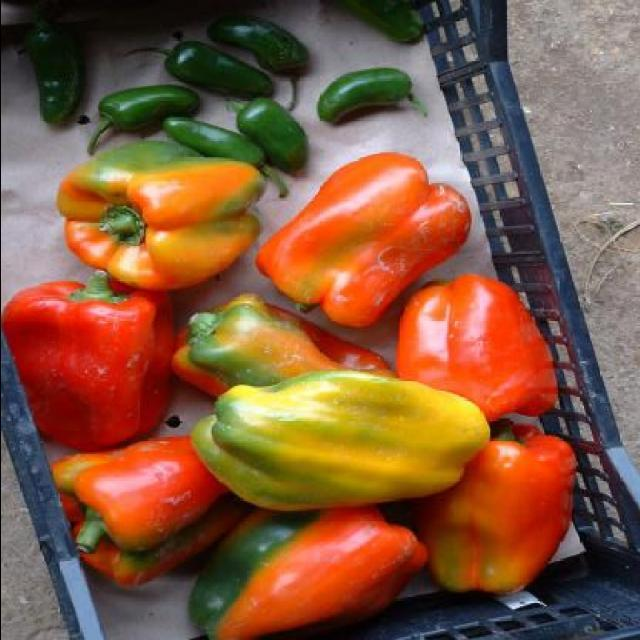Bell pepper: (1, 141, 575, 640)
